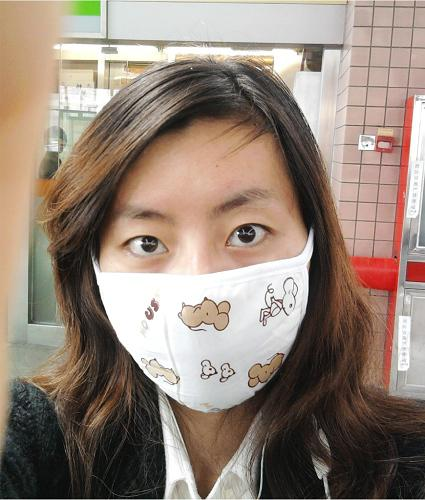OK: (100, 190, 318, 408)
